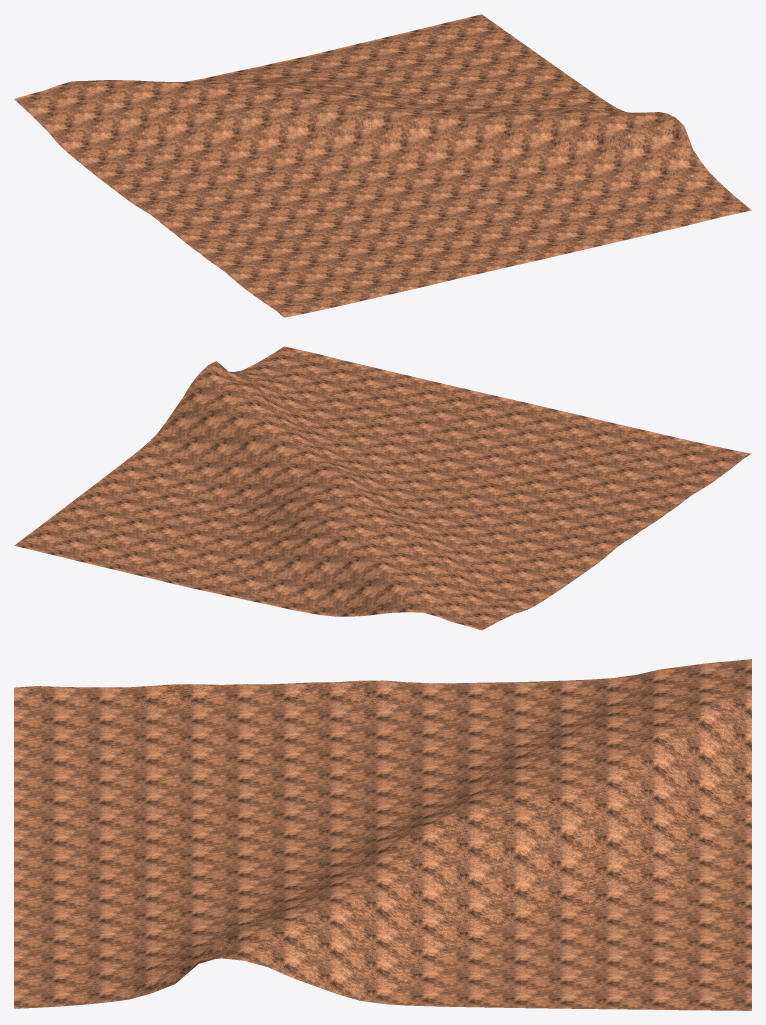
The model's file is terrain_09_03.dae.
3 renders of one model, top to bottom at view 1: azimuth 30°, elevation 25°; view 2: azimuth 150°, elevation 25°; view 3: azimuth 270°, elevation 25°, orthographic. The views are drawn at different scales.
Parts seen in each view (by area): view 1: terrain_09_03-node; view 2: terrain_09_03-node; view 3: terrain_09_03-node.
Boxes of the visible parts, left/top/right/bottom form: terrain_09_03-node: left=14, top=14, right=751, bottom=317; terrain_09_03-node: left=14, top=346, right=751, bottom=630; terrain_09_03-node: left=14, top=659, right=751, bottom=1010.
Size of the model in its own units: 128 by 128 by 10.06.
1 material, 1 textured.
